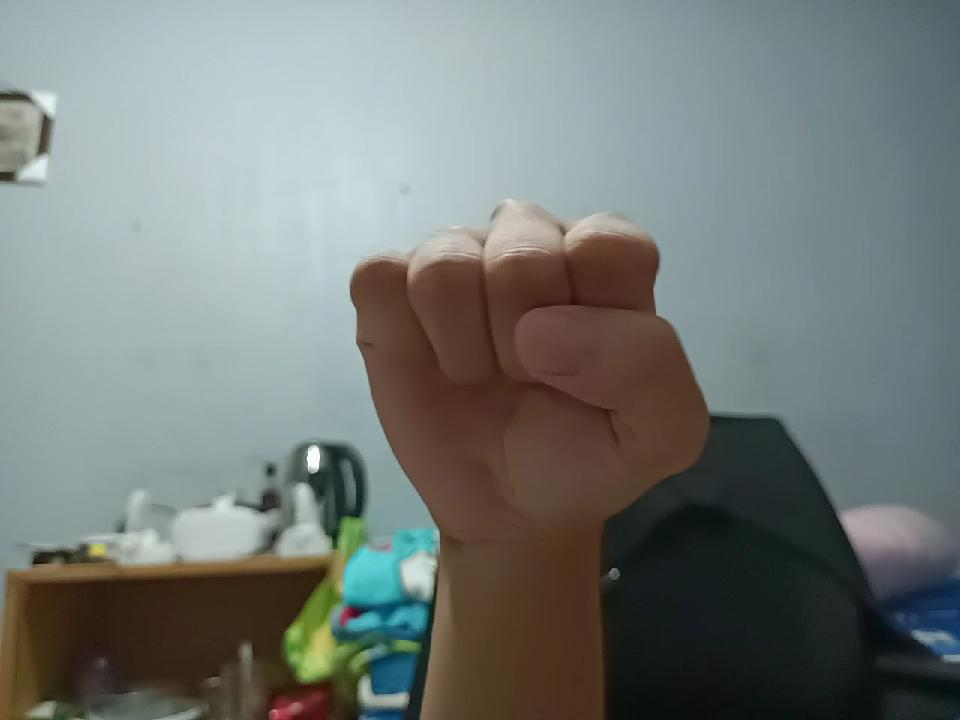rock: (339, 177, 721, 560)
